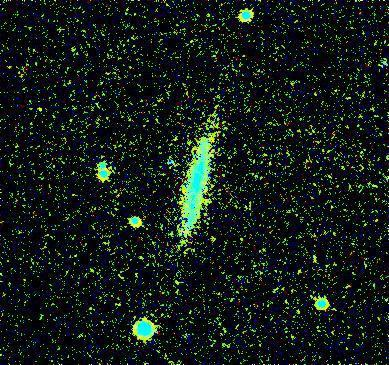star: (192, 120, 222, 150)
